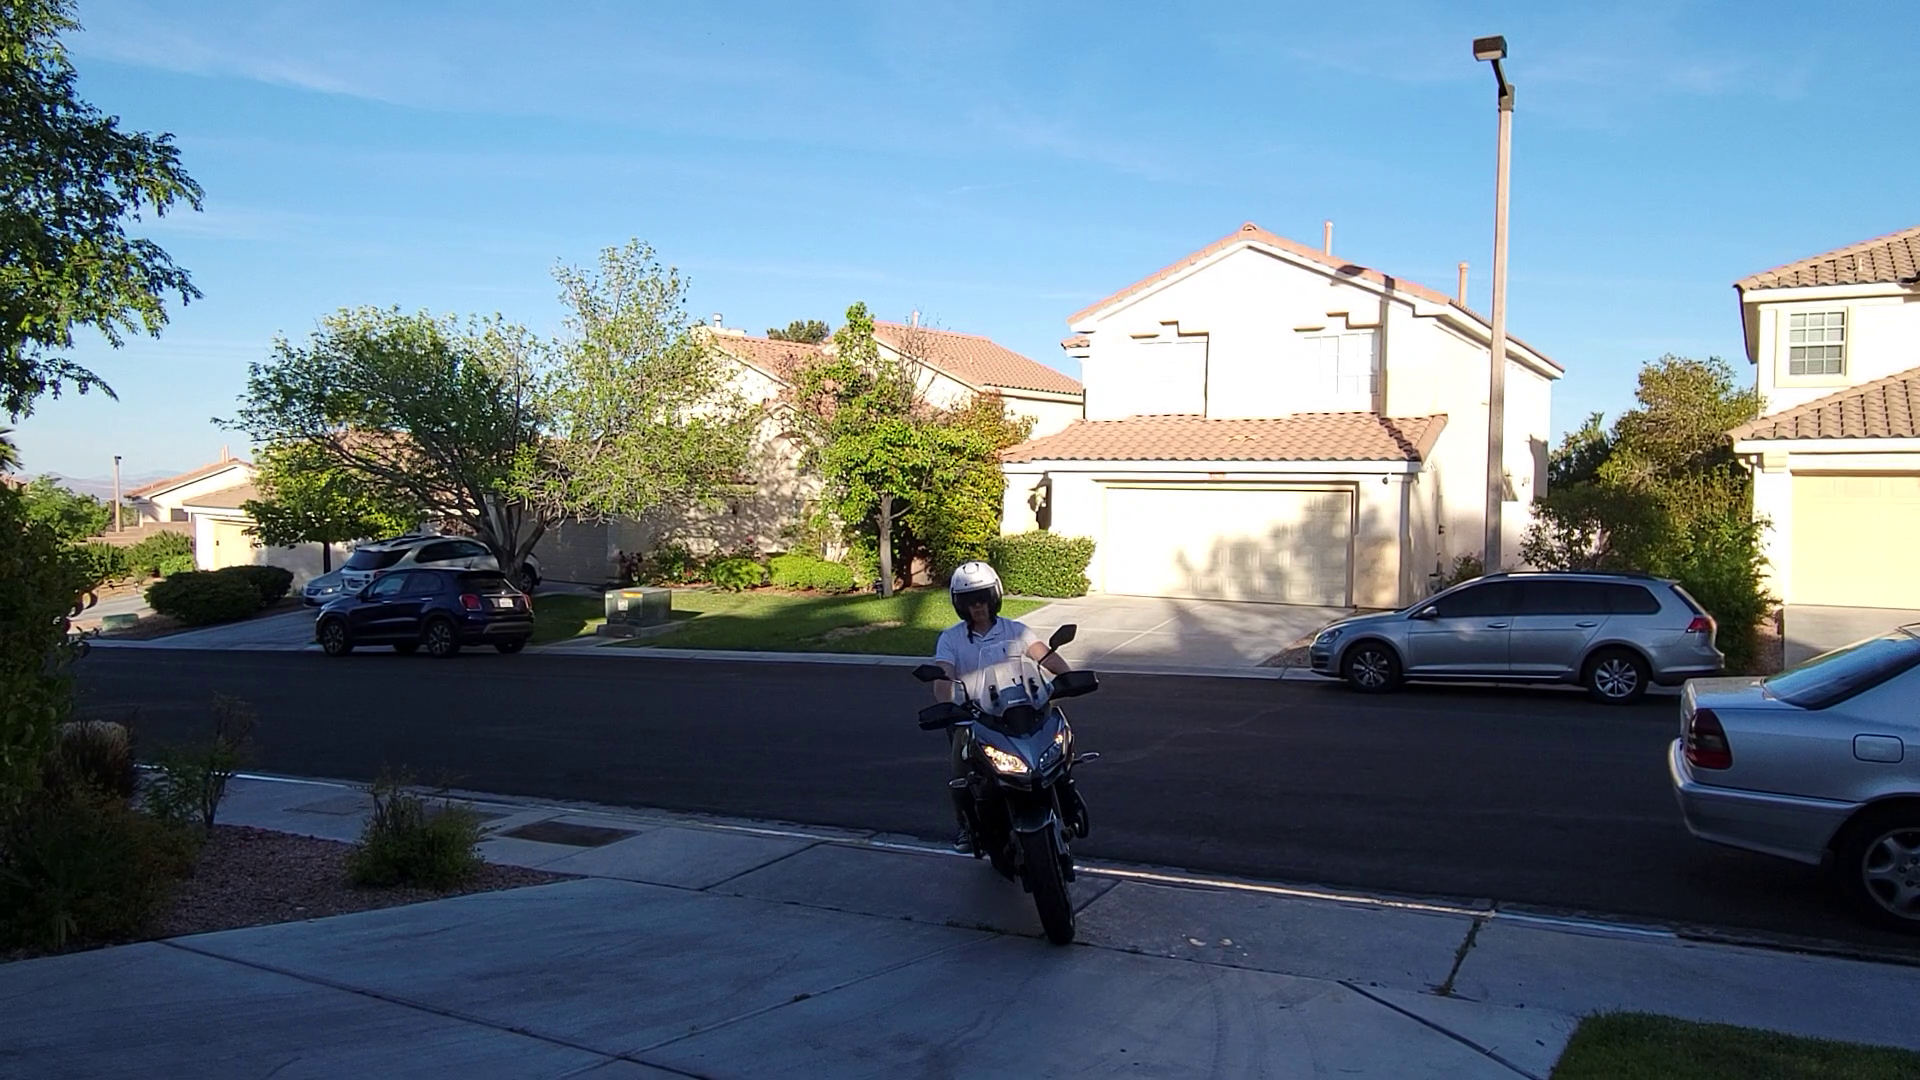my bike: (906, 556, 1104, 948)
